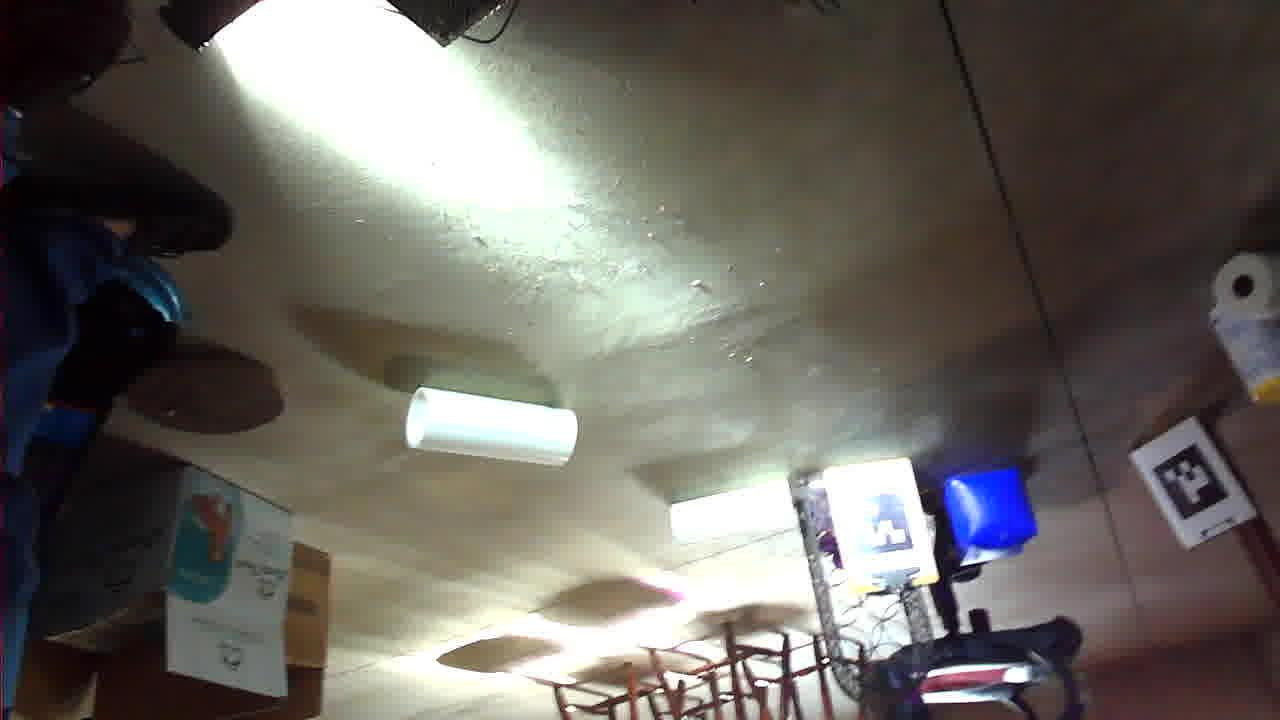coral: (701, 251, 874, 334), (493, 178, 609, 235)
